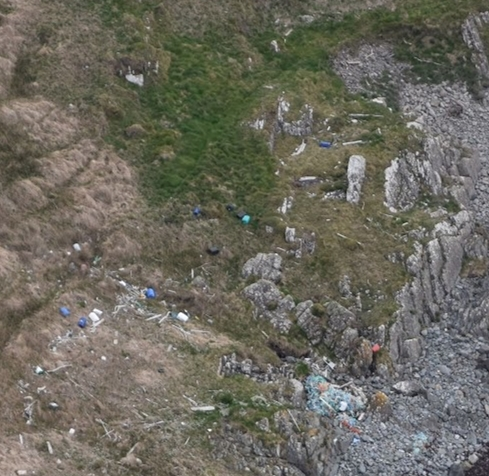net: (299, 370, 373, 444)
scattered_barrel: (47, 278, 206, 338), (181, 192, 263, 261)
white_in_green: (349, 322, 399, 371), (298, 120, 348, 169)
